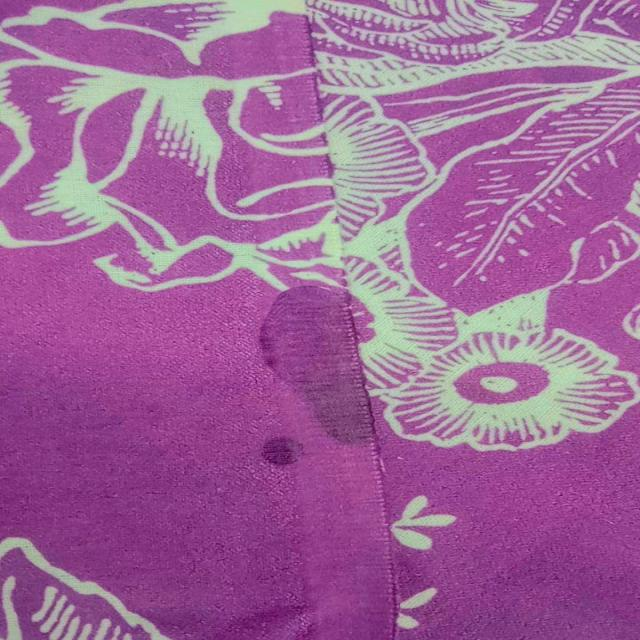stain: (247, 276, 397, 472)
